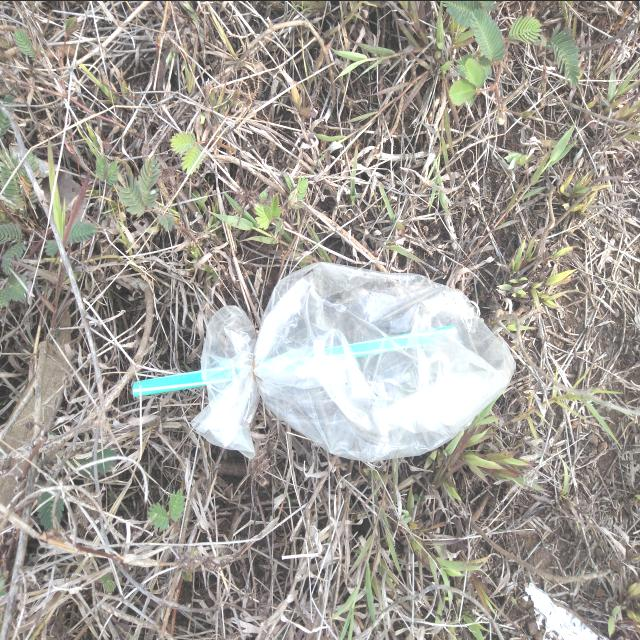Plastic film: (190, 261, 516, 462)
Plastic straw: (133, 324, 454, 396)
